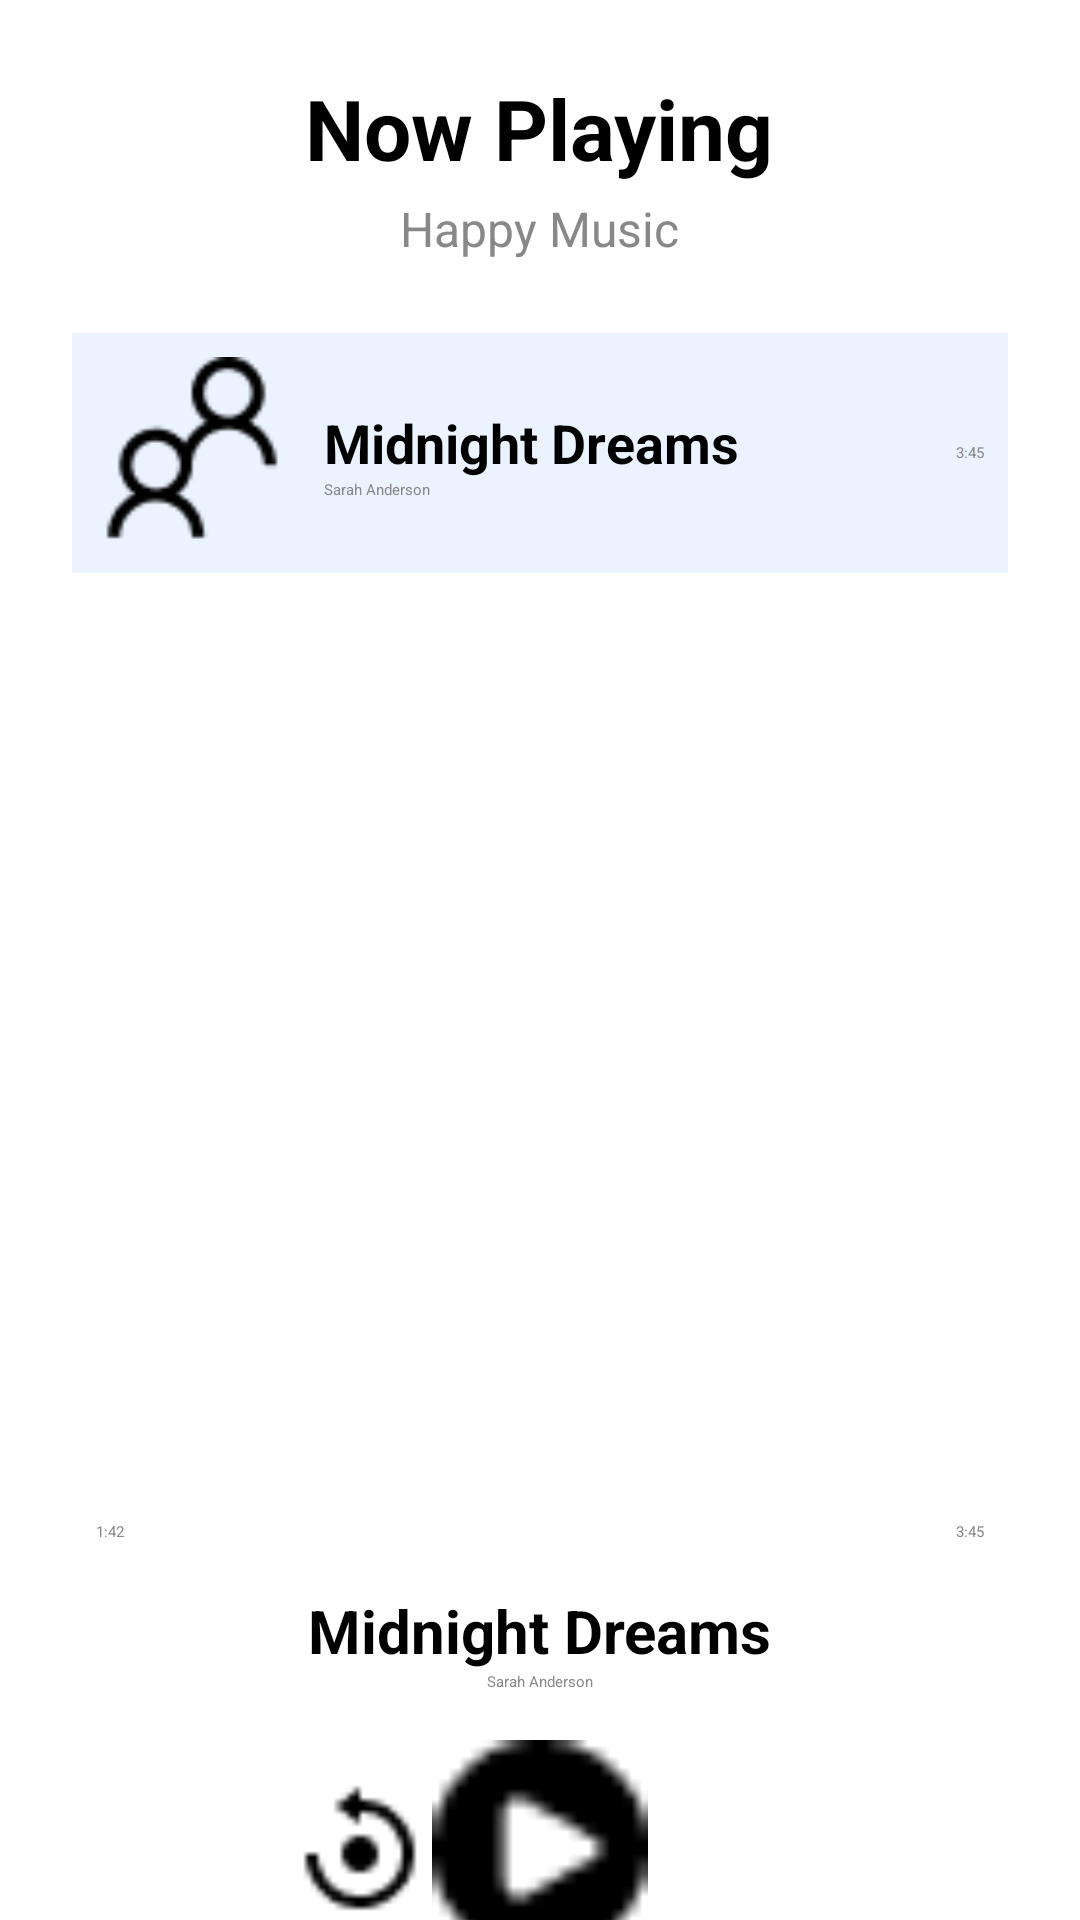

Where icons sit on this 1080*1920 app screen, as (x1, y1, x2, y2):
profile: (106, 357, 278, 539)
